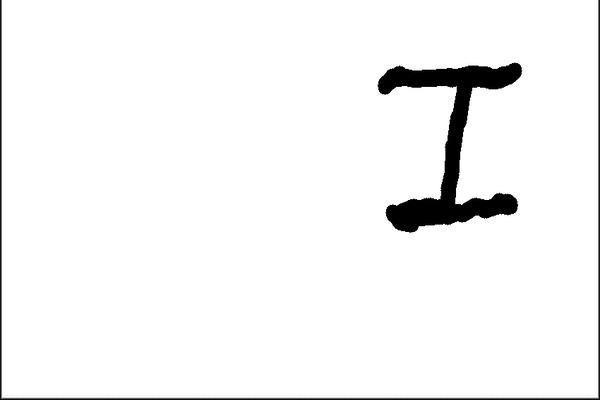i: (369, 53, 528, 239)
